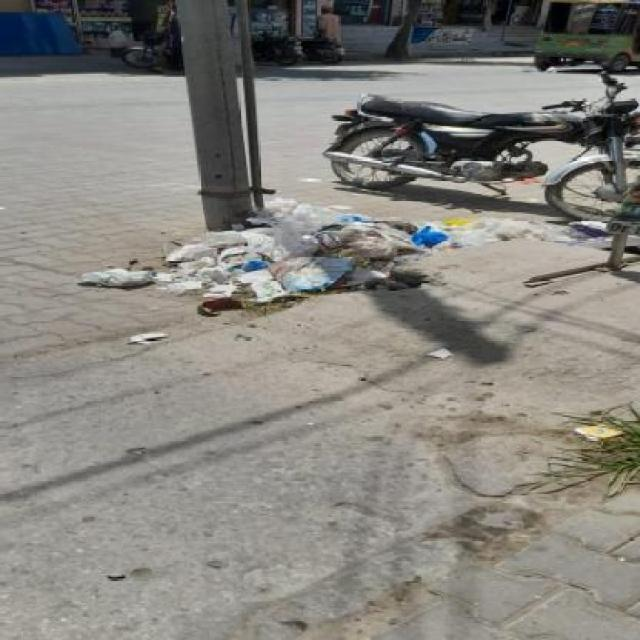garbage: (86, 194, 638, 342), (551, 417, 640, 458), (402, 337, 482, 372)
